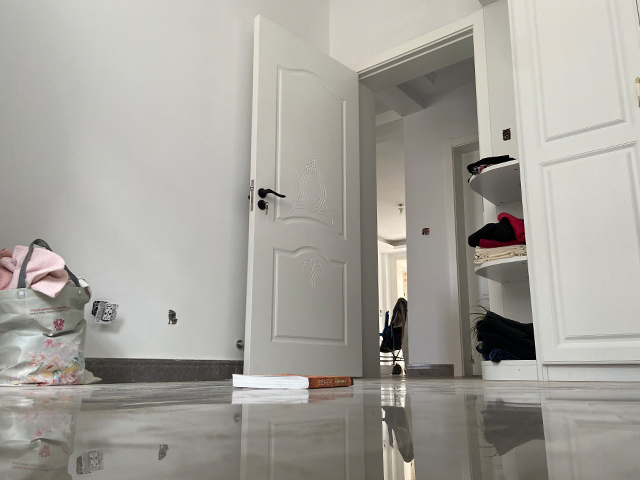book: (231, 372, 354, 390)
cabinet: (466, 107, 640, 383)
